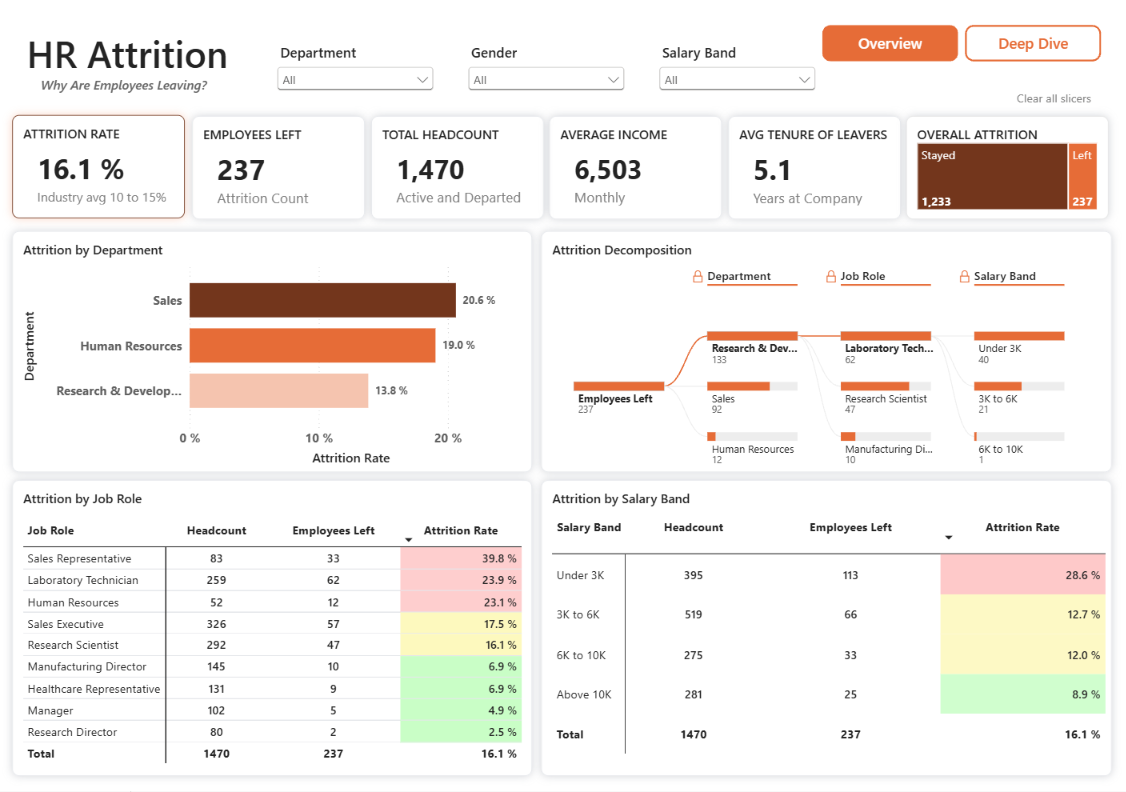

This screenshot's page, from the dashboard's own definition file:
{"tool":"powerbi","page":{"name":"Overview","canvas":[1300,914],"ordinal":0},"visuals":[{"type":"group","id":"g1","title":"Group 1","box":[27,32.6,242.8,81],"z":0},{"type":"textbox","box":[27,32.6,242.8,75.4],"z":0,"group":"g1"},{"type":"slicer","fields":{"Values":["hr_employees.Department"]},"box":[316.6,48.9,190,81.2],"z":1000},{"type":"textbox","box":[44.9,88,197.6,25.6],"z":1000,"group":"g1"},{"type":"slicer","fields":{"Values":["hr_employees.Salary Band"]},"box":[756.6,48.9,190,81.2],"z":2000},{"type":"slicer","fields":{"Values":["hr_employees.Gender"]},"box":[536.6,48.9,190,81.2],"z":3000},{"type":"pageNavigator","box":[950.1,28.7,322.7,42],"z":4000},{"type":"actionButton","box":[1134.1,96.5,165.9,31.7],"z":5000},{"type":"cardVisual","title":"ATTRITION RATE","fields":{"Data":["hr_employees.ATTRITION RATE"]},"box":[15.3,133.2,199.1,119.1],"z":6000},{"type":"cardVisual","title":"AVG TENURE OF LEAVERS","fields":{"Data":["hr_employees.Average Tenure of Leavers"]},"box":[840.9,133.7,199.1,119.1],"z":7000},{"type":"cardVisual","title":"AVERAGE INCOME","fields":{"Data":["hr_employees.Average Income"]},"box":[634.9,133.7,199.1,119.1],"z":8000},{"type":"cardVisual","title":"TOTAL HEADCOUNT","fields":{"Data":["hr_employees.Total Headcount"]},"box":[428.9,133.7,199.1,119.1],"z":9000},{"type":"cardVisual","title":"EMPLOYEES LEFT","fields":{"Data":["hr_employees.Employees Left"]},"box":[222.8,133.7,199.1,119.1],"z":10000},{"type":"treemap","title":"OVERALL ATTRITION","fields":{"Values":["hr_employees.Employees Left","hr_employees.Employees Stayed"]},"box":[1046.9,133.7,233.7,119.1],"z":11000},{"type":"barChart","title":"Attrition by Department","fields":{"Category":["hr_employees.Department"],"Y":["hr_employees.ATTRITION RATE"]},"box":[15.3,266.5,600.4,278],"z":12000},{"type":"decompositionTreeVisual","title":"Attrition Decomposition","fields":{"Analyze":["hr_employees.Employees Left"],"ExplainBy":["hr_employees.Department","hr_employees.JobRole","hr_employees.Salary Band"]},"box":[626,266.5,658.5,278.7],"z":13000},{"type":"pivotTable","title":"Attrition by Job Role","fields":{"Rows":["hr_employees.JobRole"],"Values":["hr_employees.Total Headcount","hr_employees.Employees Left","hr_employees.Attrition Rate"]},"box":[15.3,554.4,600.4,341.5],"z":14000},{"type":"pivotTable","title":"Attrition by Job Role","fields":{"Rows":["hr_employees.Salary Band"],"Values":["hr_employees.Total Headcount","hr_employees.Employees Left","hr_employees.Attrition Rate"]},"box":[626,554.4,658.5,341.5],"z":15000}]}

Visuals, with their boxes in screenshot pixels (x1, y1, x2, y2), scaled from the page's 1300x914 canvas onto the 1126x792 screenshot:
"Group 1" group: [23, 28, 234, 98]
textbox: [23, 28, 234, 94]
slicer - hr_employees.Department: [274, 42, 439, 113]
textbox: [39, 76, 210, 98]
slicer - hr_employees.Salary Band: [655, 42, 820, 113]
slicer - hr_employees.Gender: [465, 42, 629, 113]
pageNavigator: [823, 25, 1102, 61]
actionButton: [982, 84, 1125, 111]
"ATTRITION RATE" cardVisual: [13, 115, 186, 219]
"AVG TENURE OF LEAVERS" cardVisual: [728, 116, 901, 219]
"AVERAGE INCOME" cardVisual: [550, 116, 722, 219]
"TOTAL HEADCOUNT" cardVisual: [371, 116, 544, 219]
"EMPLOYEES LEFT" cardVisual: [193, 116, 365, 219]
"OVERALL ATTRITION" treemap: [907, 116, 1109, 219]
"Attrition by Department" barChart: [13, 231, 533, 472]
"Attrition Decomposition" decompositionTreeVisual: [542, 231, 1113, 472]
"Attrition by Job Role" pivotTable: [13, 480, 533, 776]
"Attrition by Job Role" pivotTable: [542, 480, 1113, 776]
